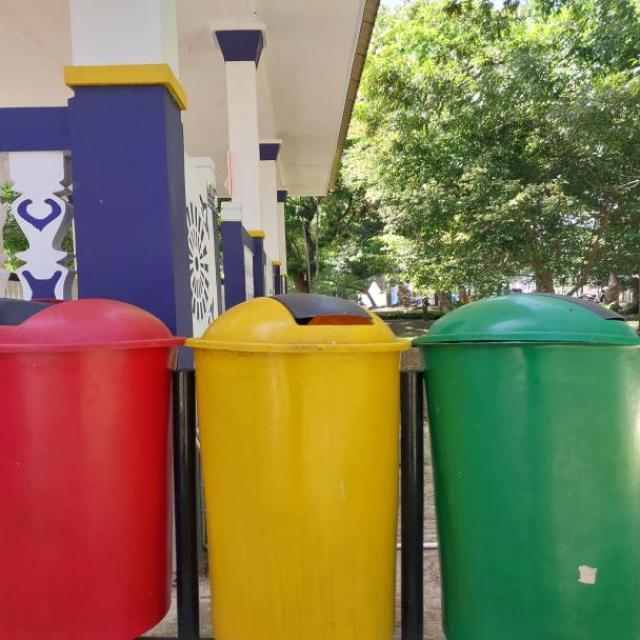dustbin ahead at: (0, 276, 640, 640)
